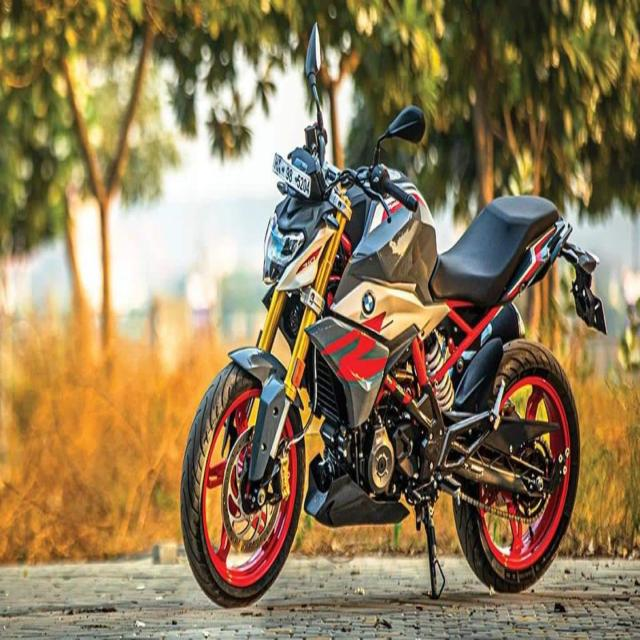bike: (180, 14, 608, 608)
